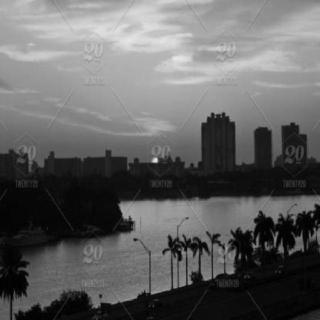other: (168, 54, 290, 76)
